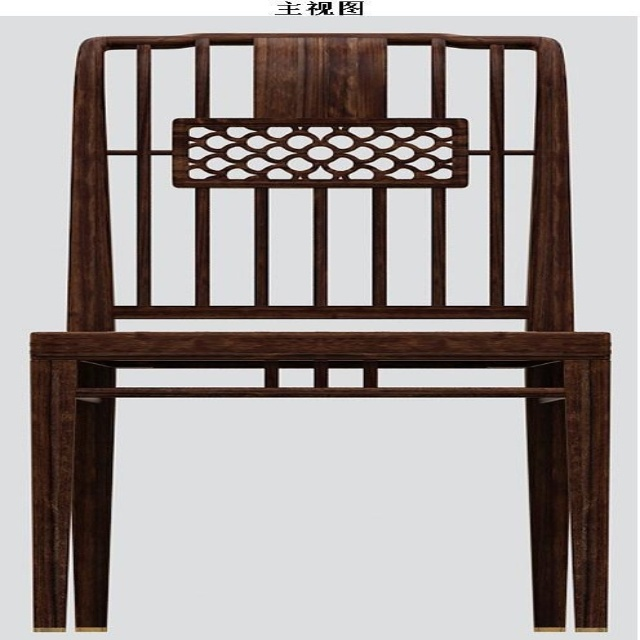obstacle: (31, 33, 609, 631)
